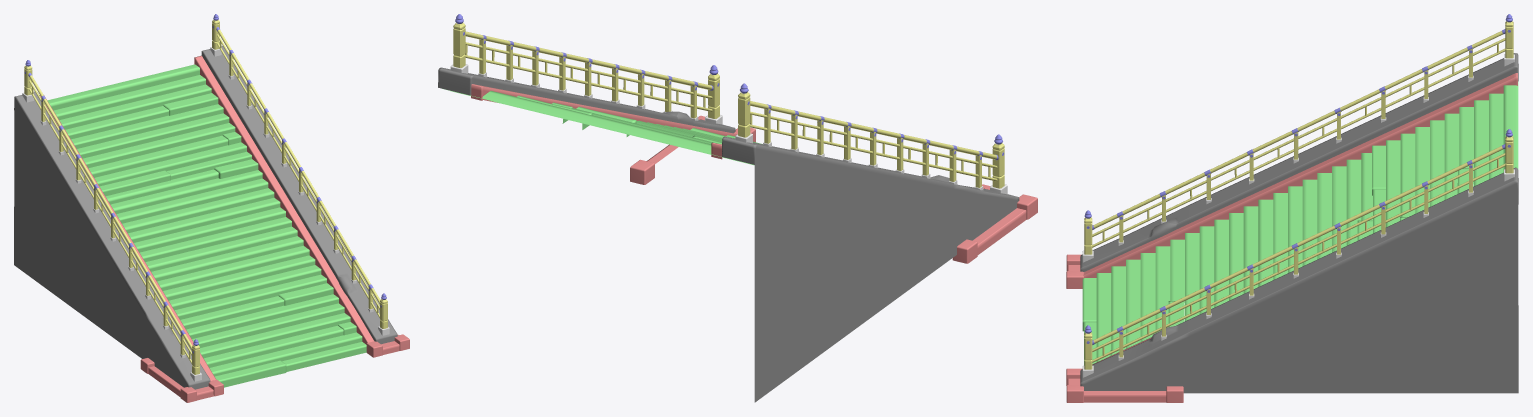
File: SM_ENV_LKNVLD_Ground_StairCase_02_Lod1.gltf
3 renders of one model, left to right at view 1: azimuth 30°, elevation 25°; view 2: azimuth 150°, elevation 25°; view 3: azimuth 270°, elevation 25°, orthographic. The views are drawn at different scales.
Visible parts, largest first — view 1: SM_ENV_LKNVLD_Ground_StairCase_02_Lod1; view 2: SM_ENV_LKNVLD_Ground_StairCase_02_Lod1; view 3: SM_ENV_LKNVLD_Ground_StairCase_02_Lod1.
Part boxes in pixels (x1=…): SM_ENV_LKNVLD_Ground_StairCase_02_Lod1: x1=14, y1=14, x2=409, y2=402; SM_ENV_LKNVLD_Ground_StairCase_02_Lod1: x1=438, y1=14, x2=1037, y2=402; SM_ENV_LKNVLD_Ground_StairCase_02_Lod1: x1=1066, y1=14, x2=1518, y2=402.
Size of the model in its own units: 8.79 by 7.9 by 12.3.
